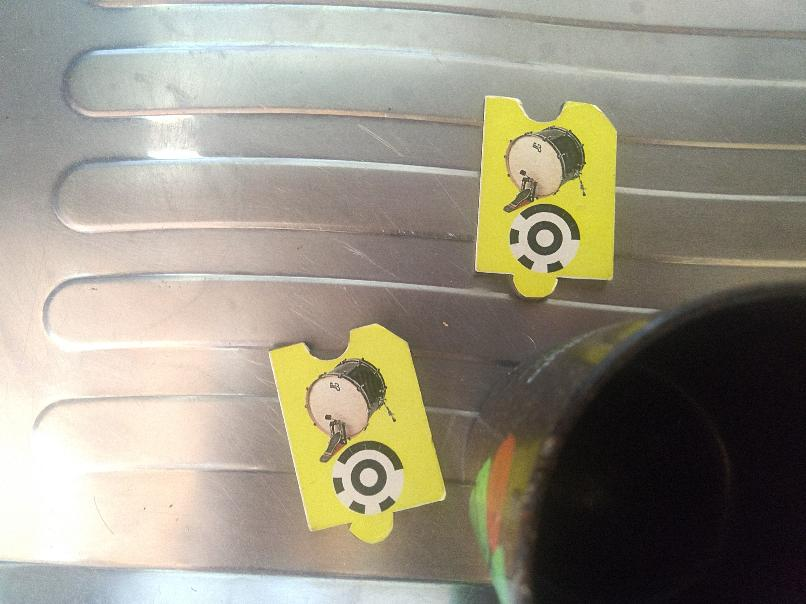bumbo: (264, 320, 449, 544), (472, 91, 620, 308)
